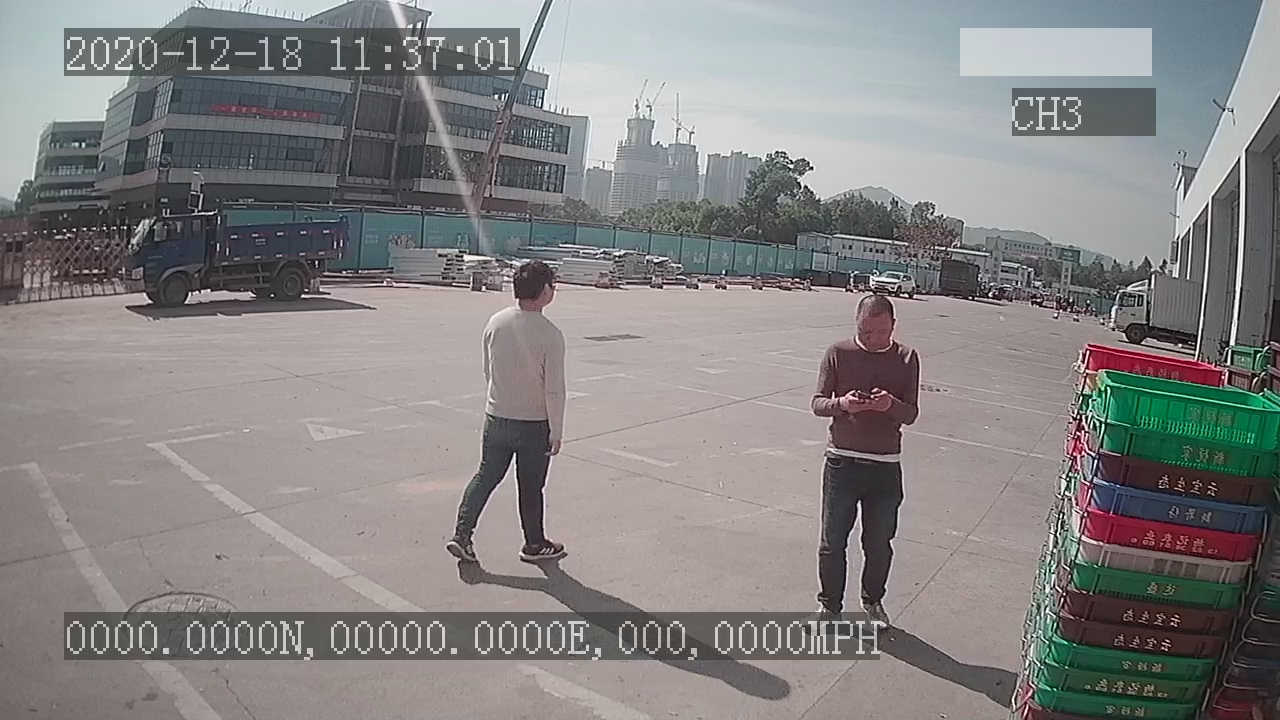person: (447, 258, 571, 567)
